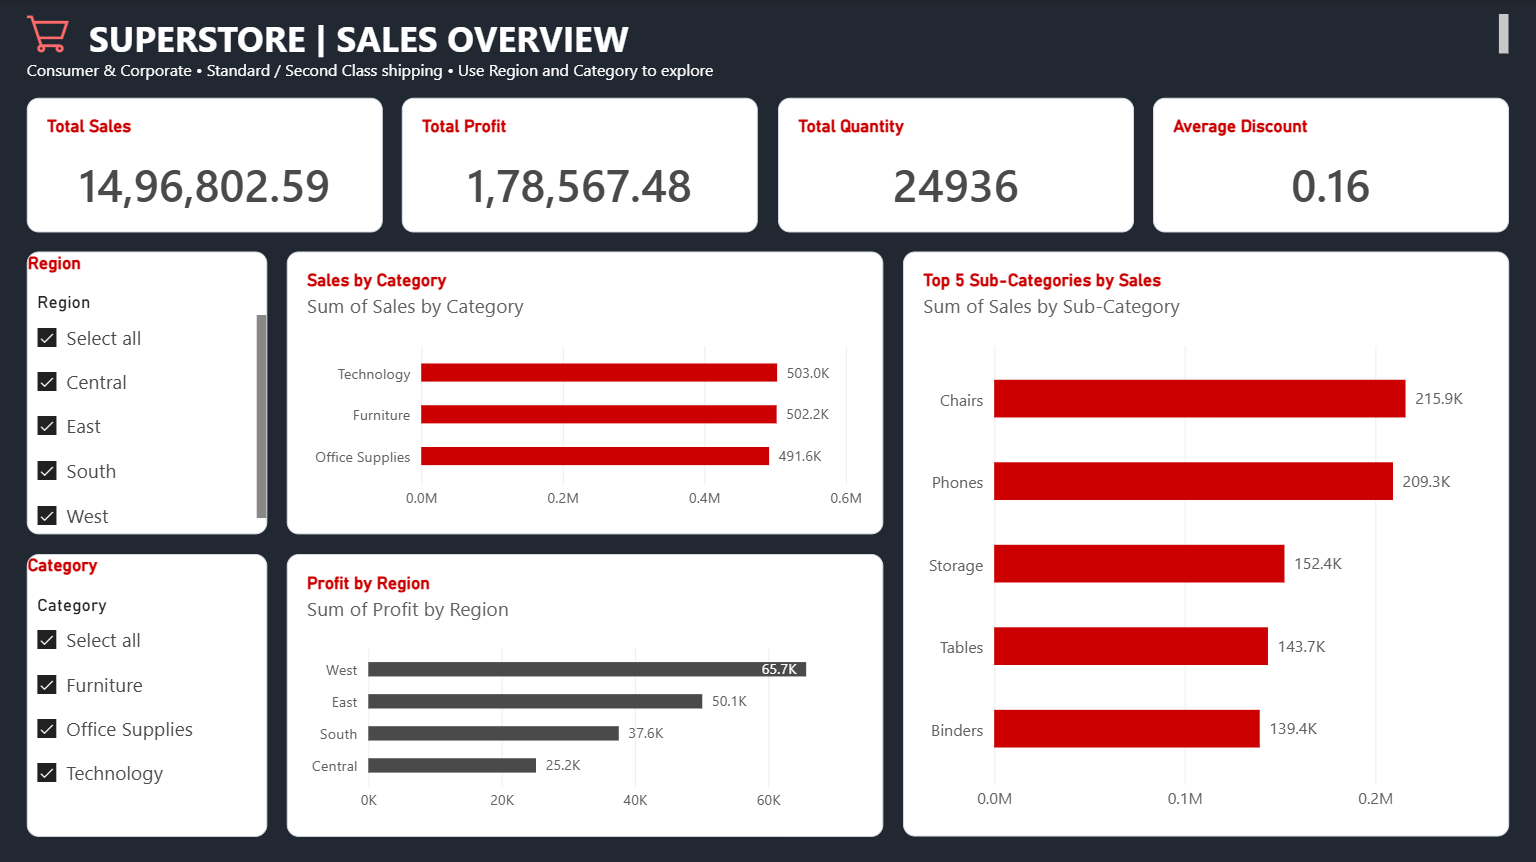

The page's visual inventory and layout, read from the dashboard file:
{"tool":"powerbi","page":{"name":"Sales Overview","canvas":[1280,720],"ordinal":0},"visuals":[{"type":"card","title":"Total Sales","fields":{"Values":["Sum(Sample - Superstore.Sales)"]},"box":[24,82,296,112],"z":0},{"type":"card","title":"Total Profit","fields":{"Values":["Sum(Sample - Superstore.Profit)"]},"box":[336,82,296,112],"z":1000},{"type":"card","title":"Total Quantity","fields":{"Values":["Sum(Sample - Superstore.Quantity)"]},"box":[648,82,296,112],"z":2000},{"type":"card","title":"Average Discount","fields":{"Values":["Avg(Sample - Superstore.Discount)"]},"box":[960,82,296,112],"z":3000},{"type":"slicer","title":"Region","fields":{"Values":["Sample - Superstore.Region"]},"box":[24,210,200,235],"z":4000},{"type":"slicer","title":"Category","fields":{"Values":["Sample - Superstore.Category"]},"box":[24,461,200,235],"z":5000},{"type":"clusteredBarChart","title":"Sales by Category","fields":{"Category":["Sample - Superstore.Category"],"Y":["Sum(Sample - Superstore.Sales)"]},"box":[240,210,496,235],"z":6000},{"type":"clusteredBarChart","title":"Profit by Region","fields":{"Category":["Sample - Superstore.Region"],"Y":["Sum(Sample - Superstore.Profit)"]},"box":[240,461,496,235],"z":7000},{"type":"clusteredBarChart","title":"Top 5 Sub-Categories by Sales","fields":{"Category":["Sample - Superstore.Sub-Category"],"Y":["Sum(Sample - Superstore.Sales)"]},"box":[752,210,504,486],"z":8000},{"type":"textbox","box":[76,12,1180,36],"z":10000},{"type":"textbox","box":[24,49,1232,25],"z":10000},{"type":"textbox","box":[24,12,44,38],"z":11000}]}

Visuals, with their boxes in screenshot pixels (x1, y1, x2, y2), scaled from the page's 1280x720 canvas onto the 1536x862 screenshot:
"Total Sales" card: [29,98,384,232]
"Total Profit" card: [403,98,758,232]
"Total Quantity" card: [778,98,1133,232]
"Average Discount" card: [1152,98,1507,232]
"Region" slicer: [29,251,269,533]
"Category" slicer: [29,552,269,833]
"Sales by Category" clusteredBarChart: [288,251,883,533]
"Profit by Region" clusteredBarChart: [288,552,883,833]
"Top 5 Sub-Categories by Sales" clusteredBarChart: [902,251,1507,833]
textbox: [91,14,1507,57]
textbox: [29,59,1507,89]
textbox: [29,14,82,60]
